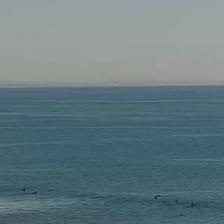surfer: (29, 191, 37, 194), (178, 213, 184, 217), (22, 188, 26, 192), (175, 199, 179, 203), (190, 201, 194, 205), (154, 196, 157, 200), (158, 195, 163, 197)
